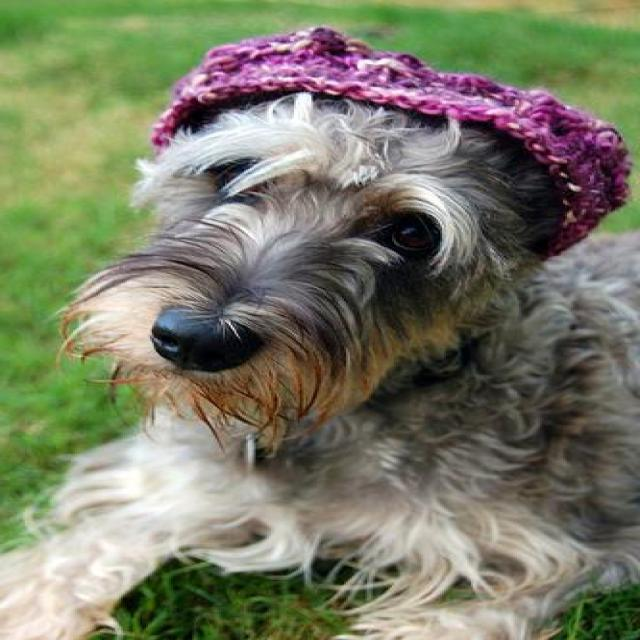standard_schnauzer: (4, 25, 634, 638)
